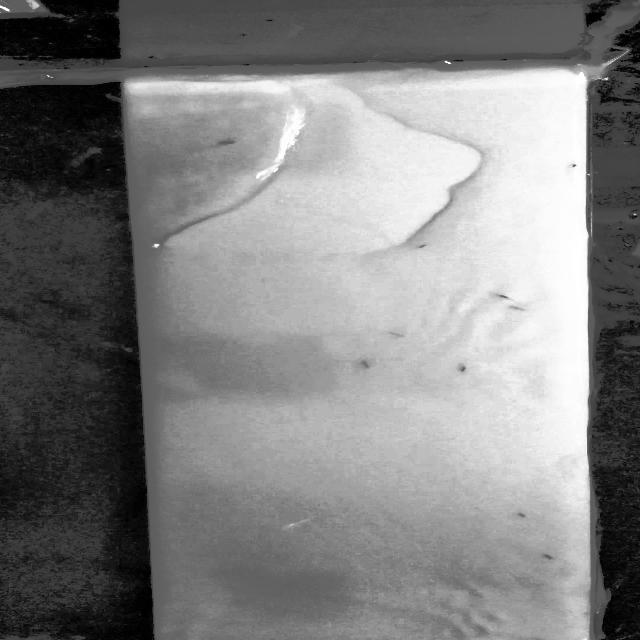shrimp: (522, 548, 565, 570), (441, 360, 481, 382), (207, 134, 242, 151), (508, 510, 536, 522), (487, 292, 517, 303)
